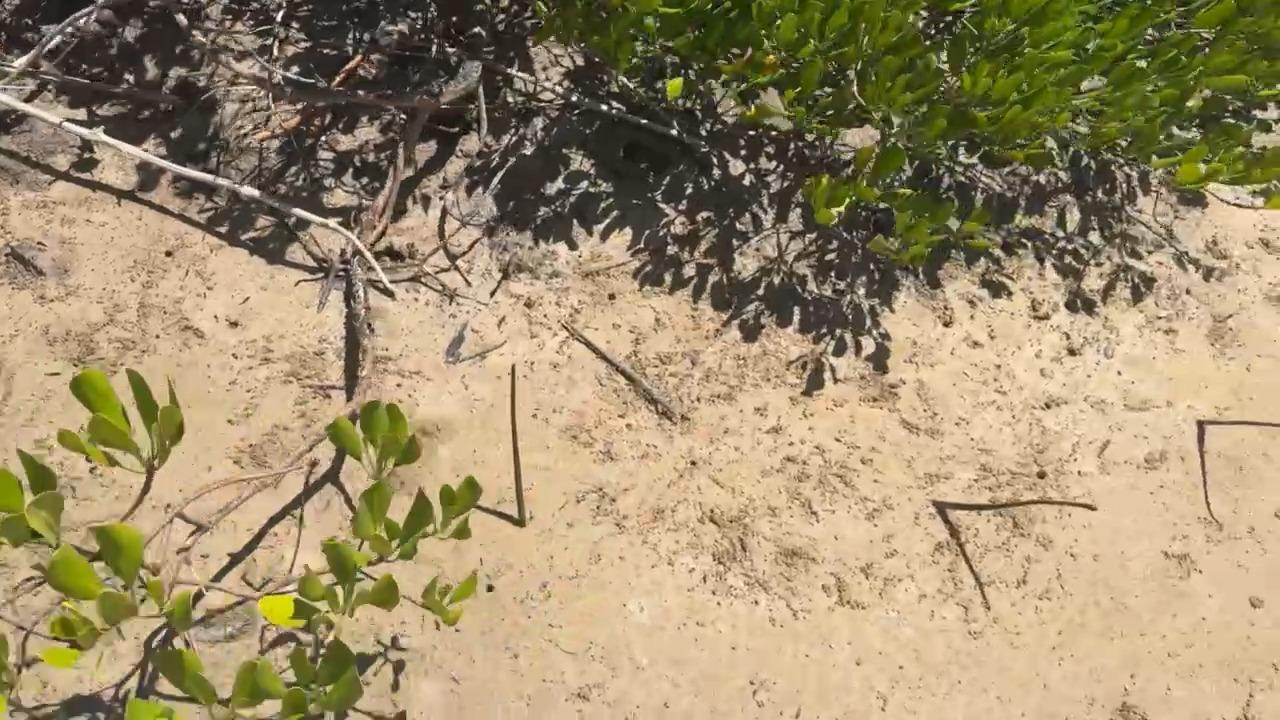Tree: (509, 361, 529, 528), (931, 496, 1098, 512), (1194, 417, 1280, 428)
